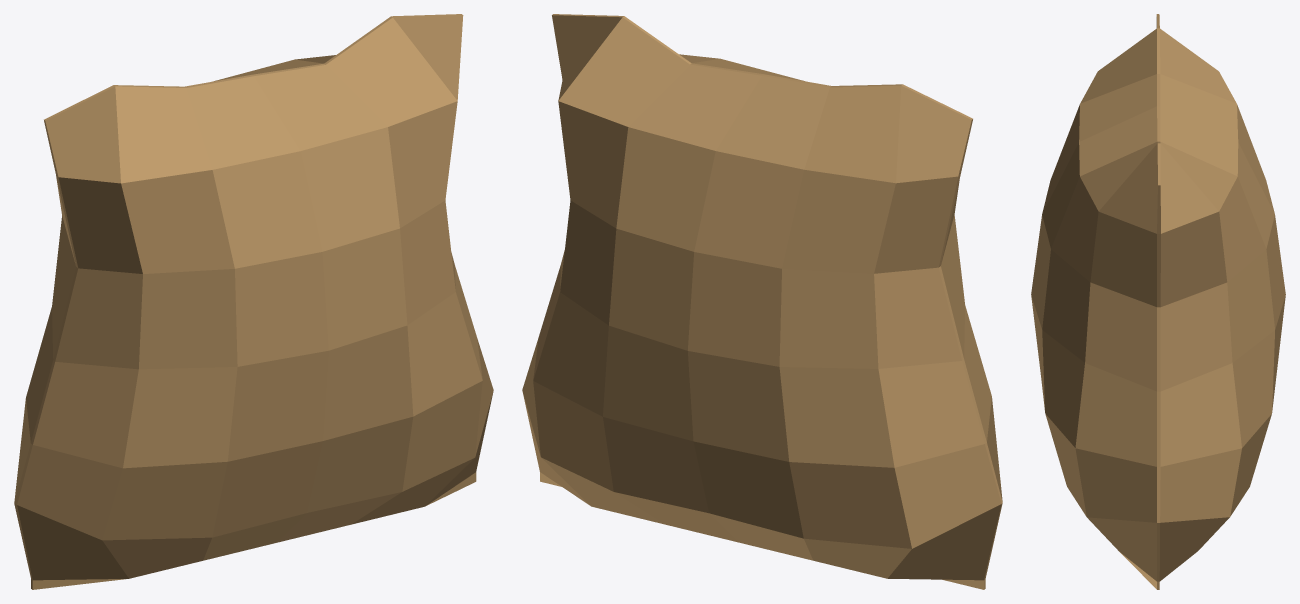
The model's file is GrainBagClosed.fbx.
The picture shows the model from 3 angles, left to right: view 1: azimuth 30°, elevation 25°; view 2: azimuth 150°, elevation 25°; view 3: azimuth 270°, elevation 25°; orthographic projection. The views are drawn at different scales.
Visible parts, largest first — view 1: GrainBagClosed; view 2: GrainBagClosed; view 3: GrainBagClosed.
Part boxes in pixels (x1,y1,x2,y2): GrainBagClosed: (14,14,493,589); GrainBagClosed: (522,14,1002,589); GrainBagClosed: (1031,14,1285,589).
Size of the model in its own units: 0.8195 by 0.7931 by 0.4442.
